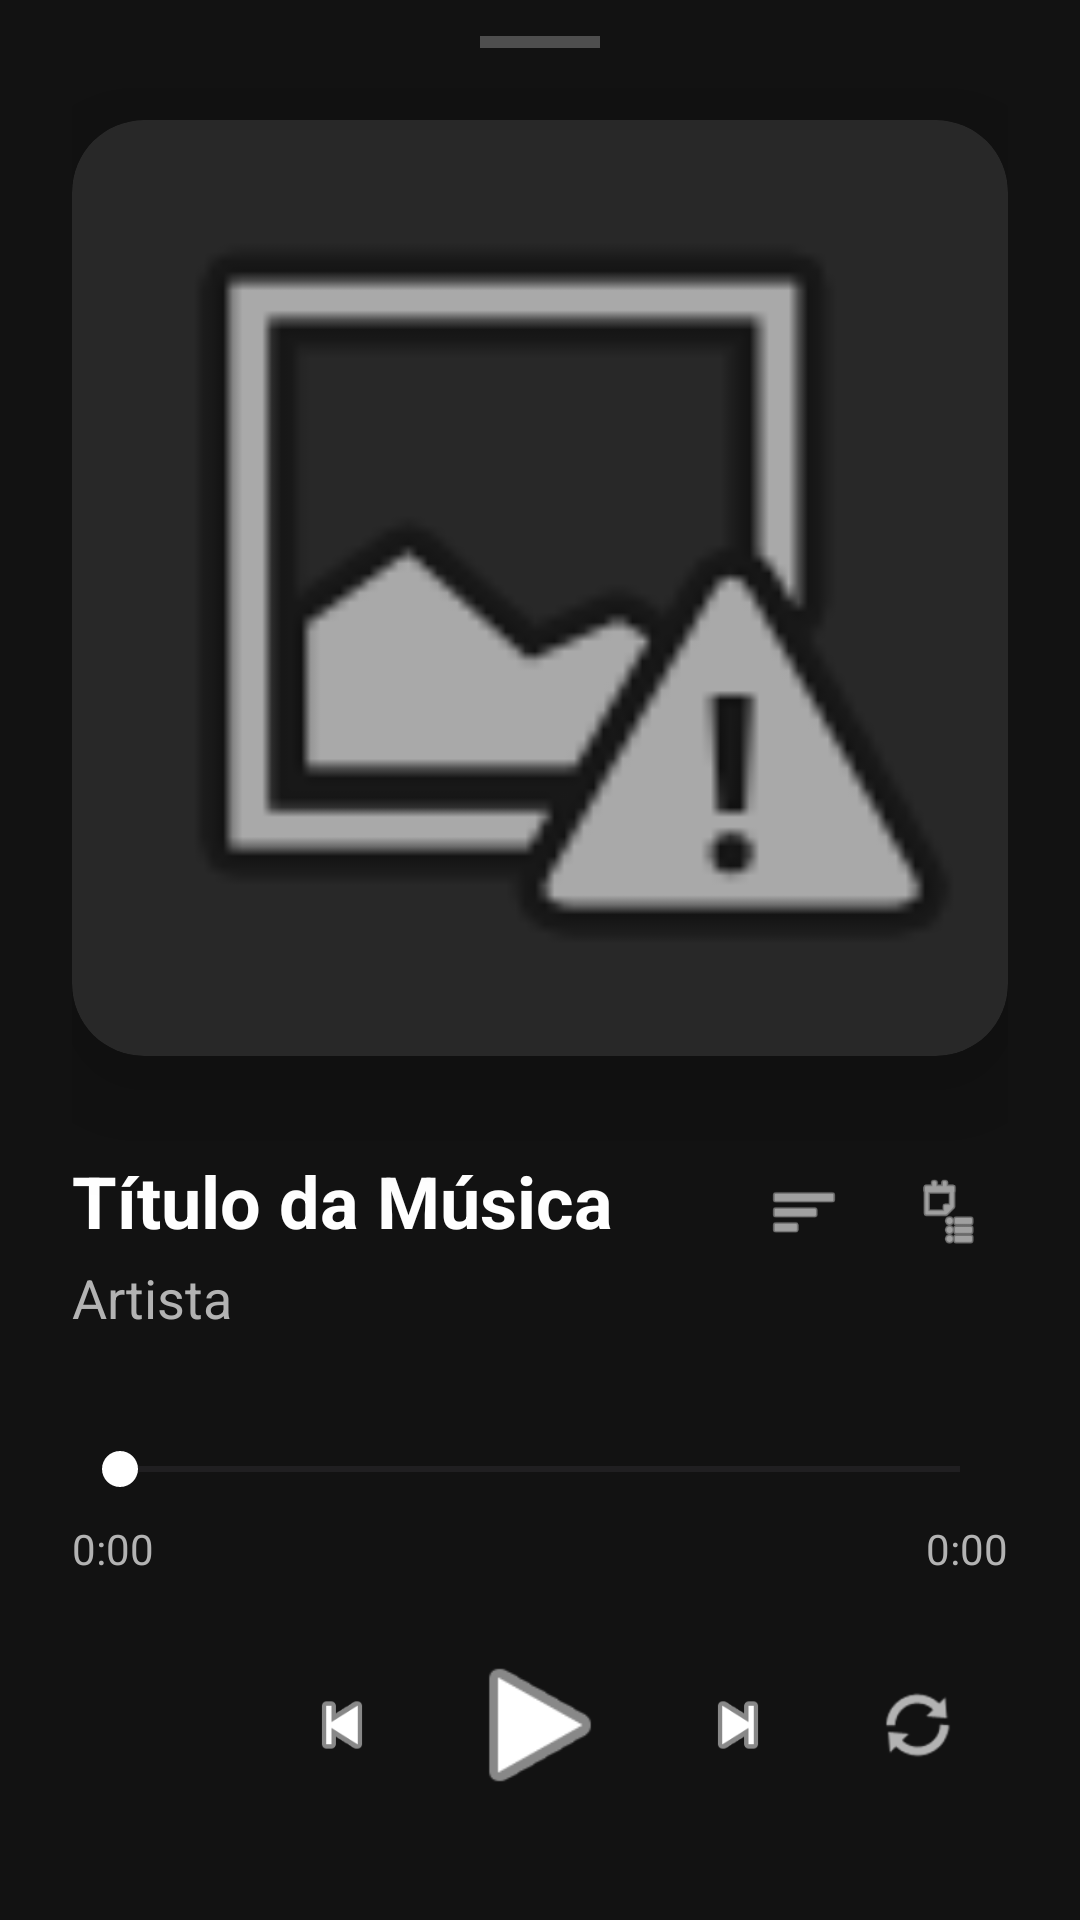

Icon bounding boxes for this 1080px x 1920px phone screenshot, format (x1=x1, y1=y1, x2=x2, y2=y2):
agenda: (x1=923, y1=1180, x2=974, y2=1244)
next: (x1=718, y1=1701, x2=758, y2=1749)
play: (x1=489, y1=1668, x2=591, y2=1782)
previous: (x1=322, y1=1701, x2=362, y2=1749)
sort by size: (x1=773, y1=1192, x2=835, y2=1233)
